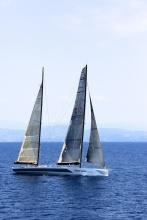fanchuan: (13, 64, 111, 177)
